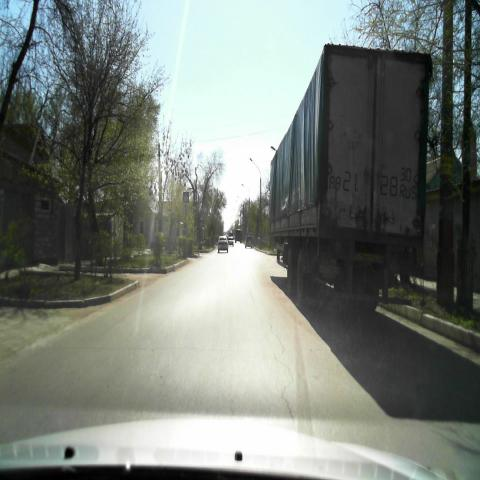5_19_1: (182, 190, 191, 203)
